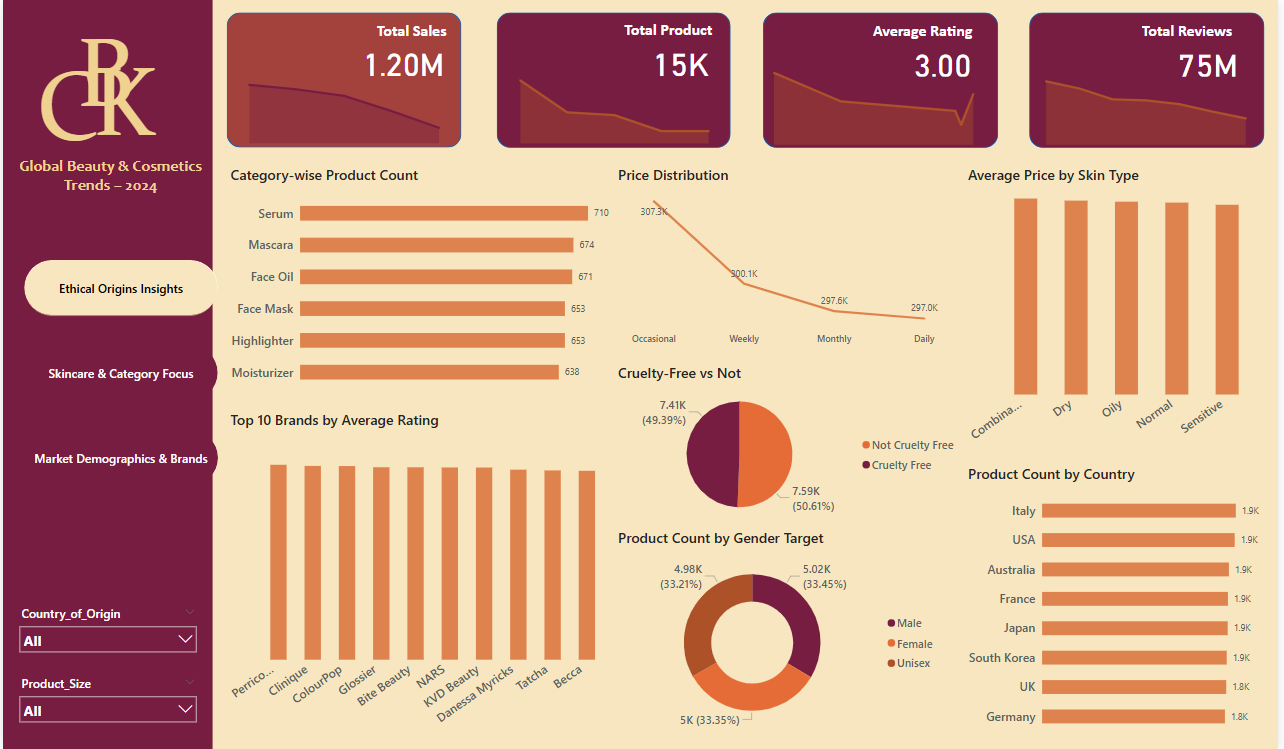

What the dashboard file says about the page in this screenshot:
{"tool":"powerbi","page":{"name":"Ethical Origins Insights","canvas":[1700,1000],"ordinal":0},"visuals":[{"type":"shape","box":[0,0,279.1,999.9],"z":0},{"type":"shape","box":[298.5,16.7,313,180.1],"z":1000},{"type":"shape","box":[1013.3,16.5,313.5,180.4],"z":2000},{"type":"shape","box":[657.9,16.5,311.6,180.4],"z":3000},{"type":"shape","box":[1368.7,16.5,313.5,180.4],"z":4000},{"type":"card","fields":{"Values":["most_used_beauty_cosmetics_products.TotalProduct"]},"box":[837.2,59,134,47.8],"z":5000},{"type":"clusteredBarChart","title":"Category-wise Product Count","fields":{"Y":["CountNonNull(most_used_beauty_cosmetics_products.Product_Name)"],"Category":["most_used_beauty_cosmetics_products.Category"]},"box":[298.9,220.5,515.8,309.8],"z":6000},{"type":"clusteredColumnChart","title":"Top 10 Brands by Average Rating","fields":{"Y":["Avg(most_used_beauty_cosmetics_products.Number_of_Reviews)"],"Category":["most_used_beauty_cosmetics_products.Brand"]},"box":[298.9,546.7,515.8,439.2],"z":7000},{"type":"lineChart","title":"Price Distribution ","fields":{"Y":["Sum(most_used_beauty_cosmetics_products.Price_USD)"],"Category":["most_used_beauty_cosmetics_products.Usage_Frequency"]},"box":[814.6,220.5,466.6,249.7],"z":8000},{"type":"clusteredColumnChart","title":"Average Price by Skin Type","fields":{"Y":["Sum(most_used_beauty_cosmetics_products.Price_USD)"],"Category":["most_used_beauty_cosmetics_products.Skin_Type"]},"box":[1281.2,220.5,400.9,397.3],"z":9000},{"type":"donutChart","title":"Product Count by Gender Target","fields":{"Category":["most_used_beauty_cosmetics_products.Gender_Target"],"Y":["CountNonNull(most_used_beauty_cosmetics_products.Product_Name)"]},"box":[814.6,703.5,439.2,282.5],"z":10000},{"type":"clusteredBarChart","title":" Product Count by Country","fields":{"Category":["most_used_beauty_cosmetics_products.Country_of_Origin"],"Y":["CountNonNull(most_used_beauty_cosmetics_products.Product_Name)"]},"box":[1281.2,617.8,400.9,368.1],"z":11000},{"type":"pieChart","title":"Cruelty-Free vs Not","fields":{"Category":["most_used_beauty_cosmetics_products.Cruelty_Free"],"Y":["CountNonNull(most_used_beauty_cosmetics_products.Product_Name)"]},"box":[814.6,483,466.6,220.5],"z":12000},{"type":"card","fields":{"Values":["most_used_beauty_cosmetics_products.TotalSales"]},"box":[454.5,59,157.9,47.8],"z":13000},{"type":"card","fields":{"Values":["most_used_beauty_cosmetics_products.AvgRating"]},"box":[1179.1,58.3,149.4,49.2],"z":14000},{"type":"card","fields":{"Values":["most_used_beauty_cosmetics_products.TotalReview"]},"box":[1530.9,58.3,149.4,49.2],"z":15000},{"type":"textbox","box":[492.8,23.9,118,39.9],"z":16000},{"type":"textbox","box":[822.9,22.3,146.7,39.9],"z":17000},{"type":"textbox","box":[1155.4,23.7,169.5,40.1],"z":18000},{"type":"textbox","box":[1512.7,23.7,169.5,40.1],"z":19000},{"type":"areaChart","fields":{"Y":["Sum(most_used_beauty_cosmetics_products.Price_USD)"],"Category":["most_used_beauty_cosmetics_products.Product_Name"]},"box":[298.9,83.8,313.5,113],"z":20000},{"type":"areaChart","fields":{"Category":["most_used_beauty_cosmetics_products.Category"],"Y":["CountNonNull(most_used_beauty_cosmetics_products.Product_Name)"]},"box":[660.2,81.3,311,114.8],"z":21000},{"type":"areaChart","fields":{"Y":["CountNonNull(most_used_beauty_cosmetics_products.Product_Name)"],"Category":["most_used_beauty_cosmetics_products.Rating"]},"box":[1013.3,83.8,311.6,114.8],"z":22000},{"type":"areaChart","fields":{"Y":["CountNonNull(most_used_beauty_cosmetics_products.Product_Name)"],"Category":["most_used_beauty_cosmetics_products.Main_Ingredient"]},"box":[1368.7,83.8,311.6,114.8],"z":23000},{"type":"slicer","fields":{"Values":["most_used_beauty_cosmetics_products.Product_Size"]},"box":[11.2,894.7,256.8,71.8],"z":24000},{"type":"slicer","fields":{"Values":["most_used_beauty_cosmetics_products.Country_of_Origin"]},"box":[11.2,802.2,256.8,71.8],"z":25000},{"type":"textbox","box":[94.1,12.8,127.6,183.4],"z":26000},{"type":"textbox","box":[39.9,59,118,183.4],"z":27000},{"type":"textbox","box":[114.8,51,118,183.4],"z":28000},{"type":"shape","box":[28.7,346.1,258.3,73.4],"z":29000},{"type":"pageNavigator","box":[28.7,346.1,258.3,301.4],"z":30000},{"type":"textbox","box":[0,202.5,287.1,62.2],"z":31000}]}

Visuals, with their boxes in screenshot pixels (x1, y1, x2, y2), scaled from the page's 1700x1000 canvas onto the 1284x749 screenshot:
shape: box(0, 0, 211, 748)
shape: box(225, 13, 462, 147)
shape: box(765, 12, 1002, 147)
shape: box(497, 12, 732, 147)
shape: box(1034, 12, 1271, 147)
card - most_used_beauty_cosmetics_products.TotalProduct: box(632, 44, 734, 80)
"Category-wise Product Count" clusteredBarChart: box(226, 165, 615, 397)
"Top 10 Brands by Average Rating" clusteredColumnChart: box(226, 409, 615, 738)
"Price Distribution " lineChart: box(615, 165, 968, 352)
"Average Price by Skin Type" clusteredColumnChart: box(968, 165, 1270, 463)
"Product Count by Gender Target" donutChart: box(615, 527, 947, 739)
" Product Count by Country" clusteredBarChart: box(968, 463, 1270, 738)
"Cruelty-Free vs Not" pieChart: box(615, 362, 968, 527)
card - most_used_beauty_cosmetics_products.TotalSales: box(343, 44, 463, 80)
card - most_used_beauty_cosmetics_products.AvgRating: box(891, 44, 1003, 81)
card - most_used_beauty_cosmetics_products.TotalReview: box(1156, 44, 1269, 81)
textbox: box(372, 18, 461, 48)
textbox: box(622, 17, 732, 47)
textbox: box(873, 18, 1001, 48)
textbox: box(1143, 18, 1271, 48)
areaChart - Sum(most_used_beauty_cosmetics_products.Price_USD) x most_used_beauty_cosmetics_products.Product_Name: box(226, 63, 463, 147)
areaChart - most_used_beauty_cosmetics_products.Category x CountNonNull(most_used_beauty_cosmetics_products.Product_Name): box(499, 61, 734, 147)
areaChart - CountNonNull(most_used_beauty_cosmetics_products.Product_Name) x most_used_beauty_cosmetics_products.Rating: box(765, 63, 1001, 149)
areaChart - CountNonNull(most_used_beauty_cosmetics_products.Product_Name) x most_used_beauty_cosmetics_products.Main_Ingredient: box(1034, 63, 1269, 149)
slicer - most_used_beauty_cosmetics_products.Product_Size: box(8, 670, 202, 724)
slicer - most_used_beauty_cosmetics_products.Country_of_Origin: box(8, 601, 202, 655)
textbox: box(71, 10, 167, 147)
textbox: box(30, 44, 119, 182)
textbox: box(87, 38, 176, 176)
shape: box(22, 259, 217, 314)
pageNavigator: box(22, 259, 217, 485)
textbox: box(0, 152, 217, 198)
